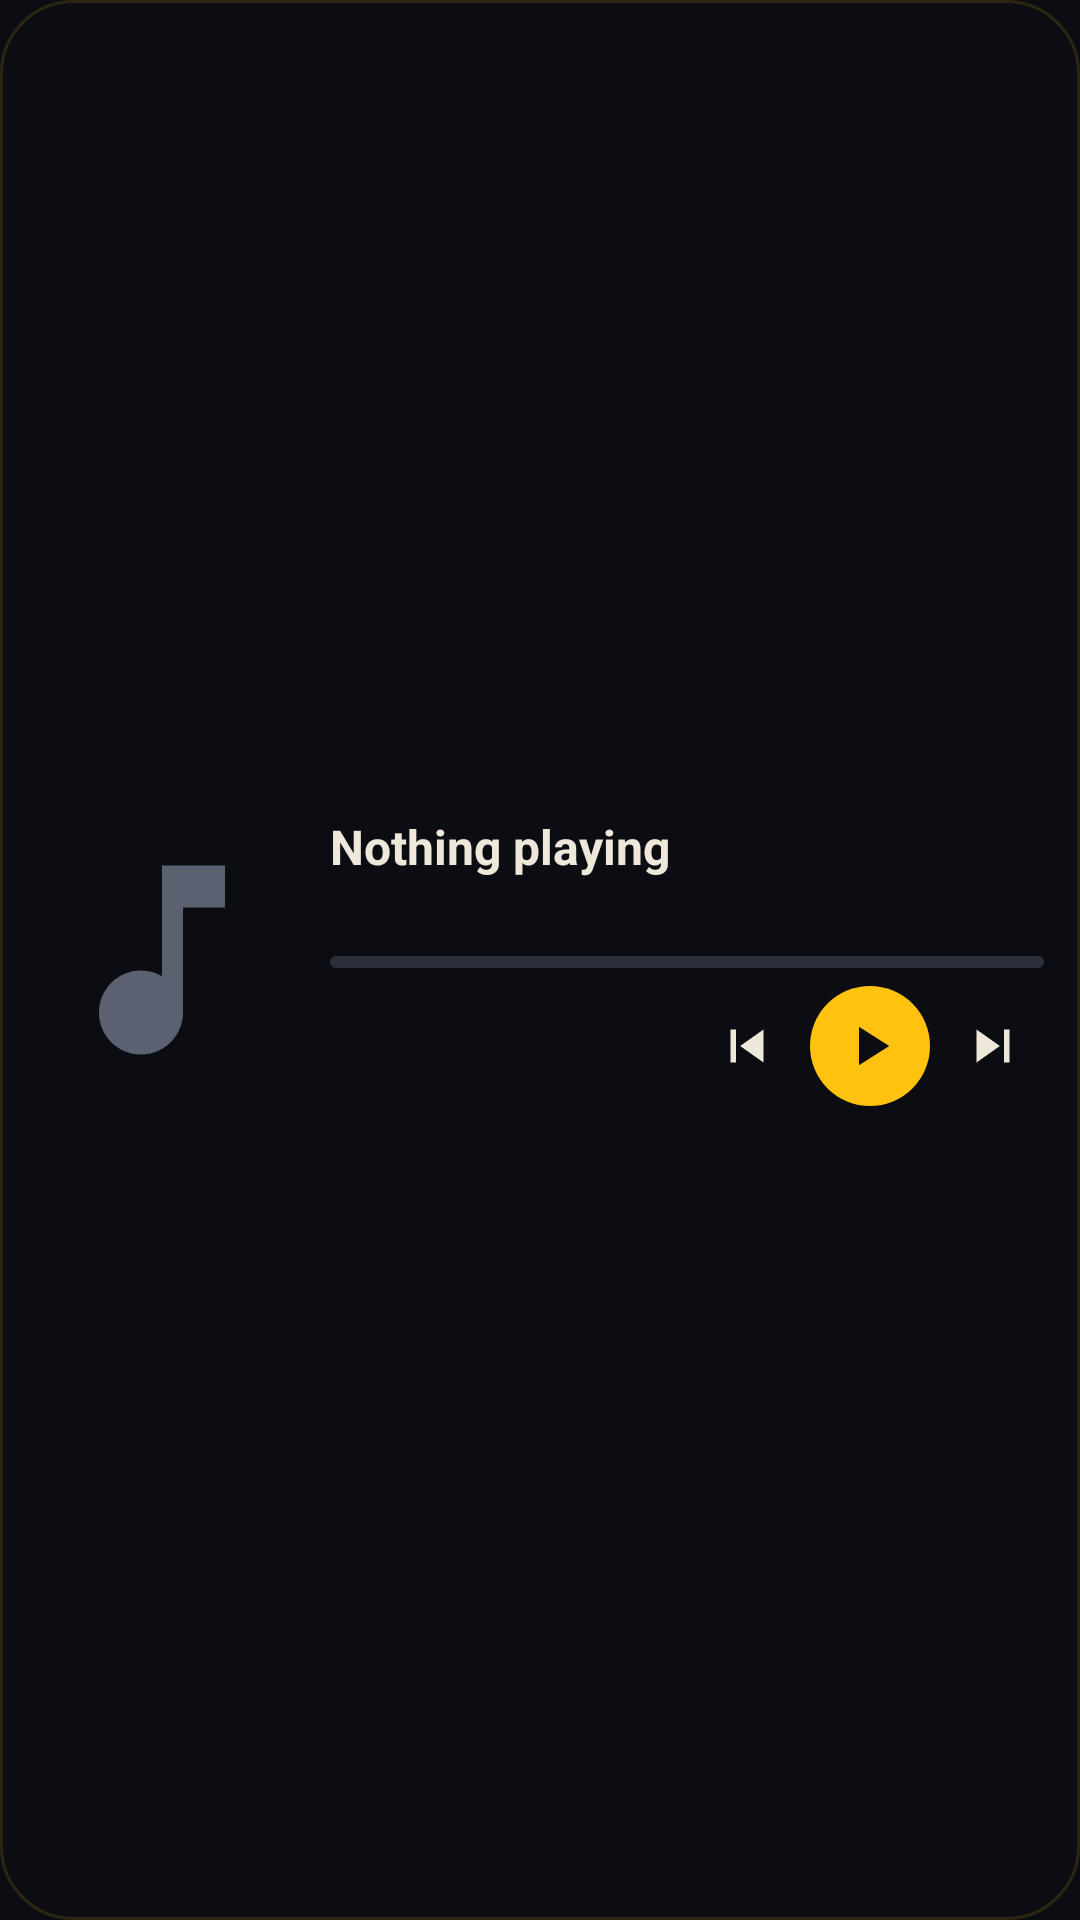

Screen size 1080w x 1920h. Icon name, then its center in pixels as [x,y]:
Album art: [162,960]
Next: [993,1046]
Play or pause: [870,1046]
Previous: [747,1046]
